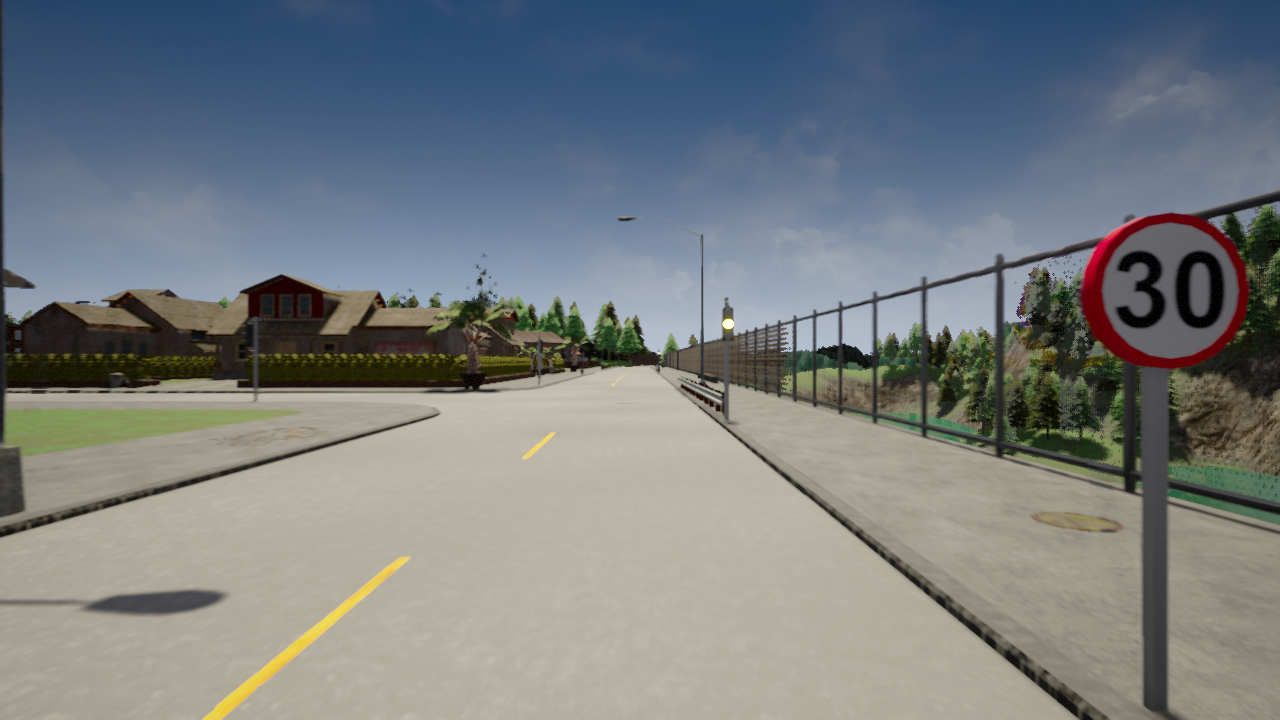yellow: (721, 306, 736, 341)
